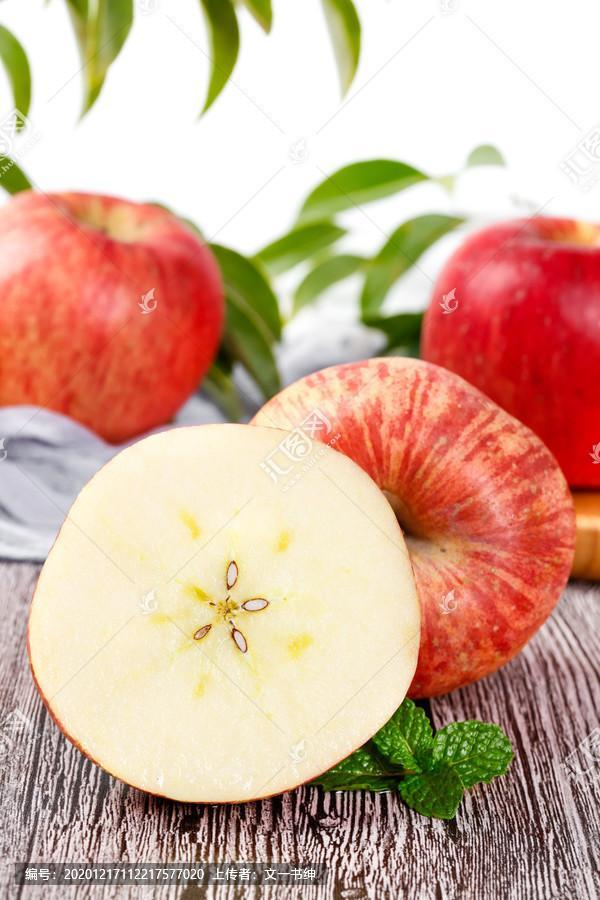apple: (245, 357, 577, 694), (1, 180, 223, 433), (420, 210, 599, 475)
